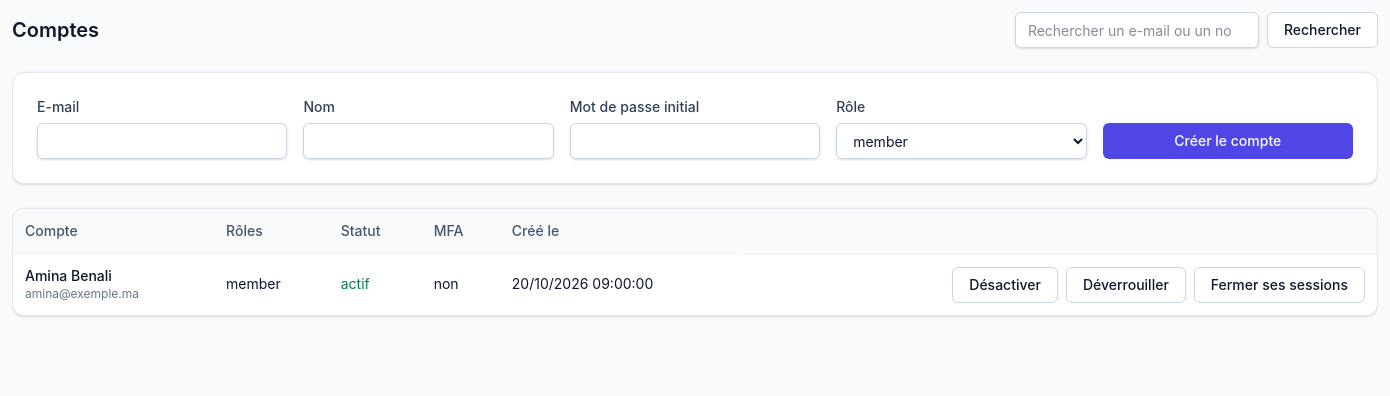
Test: UsersView › disables an account
Click the button "Désactiver".
click(1005, 284)  # box [952,266,1058,302]
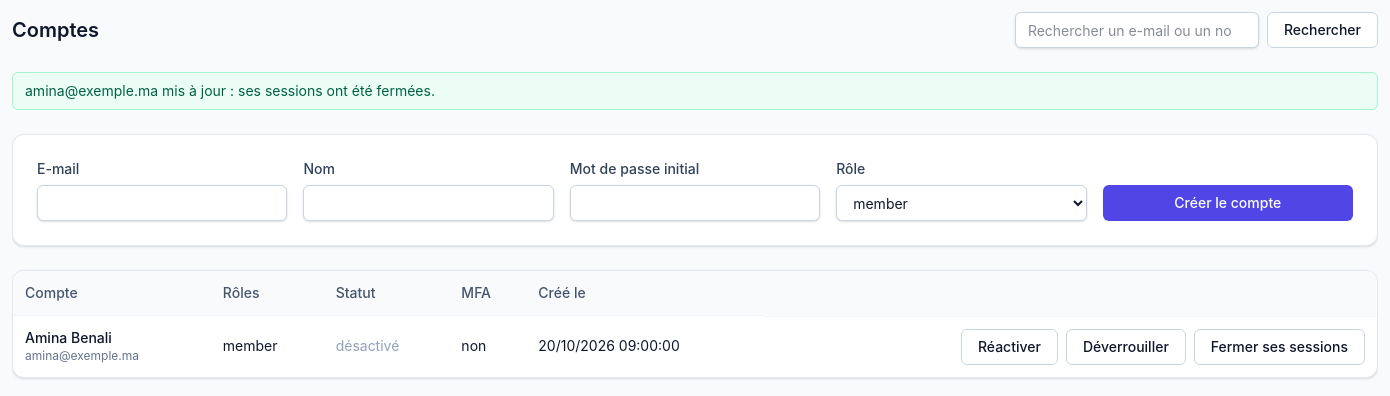
Expected: the text "désactivé" is shown, [336,337,399,354]
